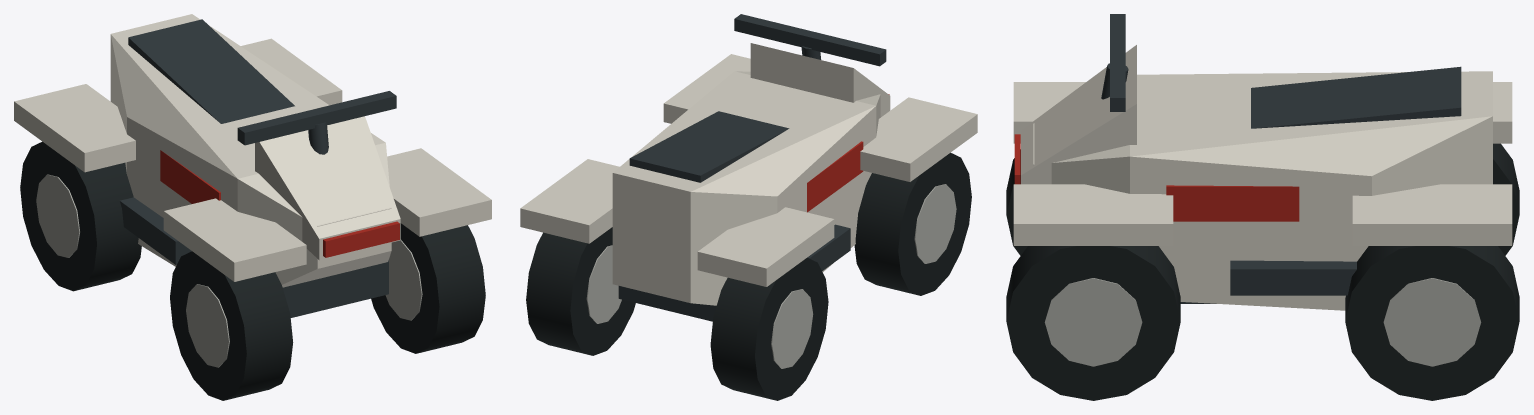
3 renders of one model, left to right at view 1: azimuth 30°, elevation 25°; view 2: azimuth 150°, elevation 25°; view 3: azimuth 270°, elevation 25°, orthographic. The views are drawn at different scales.
Visible parts, largest first — view 1: atv-fleet-armor, atv-fleet-machine, wheel--1-0.7-fleet-rubber, wheel--1--0.7-fleet-rubber, wheel-1-0.7-fleet-rubber, steering-fleet-machine, atv-fleet-red, wheel--1--0.7-fleet-edge, wheel--1-0.7-fleet-edge, wheel-1-0.7-fleet-edge; view 2: atv-fleet-armor, wheel--1--0.7-fleet-rubber, wheel--1-0.7-fleet-rubber, wheel-1--0.7-fleet-rubber, atv-fleet-machine, steering-fleet-machine, wheel--1-0.7-fleet-edge, wheel--1--0.7-fleet-edge, wheel-1--0.7-fleet-edge, atv-fleet-red; view 3: atv-fleet-armor, wheel-1-0.7-fleet-rubber, wheel-1--0.7-fleet-rubber, atv-fleet-machine, wheel-1--0.7-fleet-edge, wheel-1-0.7-fleet-edge, atv-fleet-red, steering-fleet-machine, wheel--1--0.7-fleet-rubber, wheel--1-0.7-fleet-rubber.
Part boxes in pixels (<box>): atv-fleet-armor: <box>14,14,491,287</box>; atv-fleet-machine: <box>120,19,388,317</box>; wheel--1-0.7-fleet-rubber: <box>170,251,293,400</box>; wheel--1--0.7-fleet-rubber: <box>20,141,141,291</box>; wheel-1-0.7-fleet-rubber: <box>371,223,485,353</box>; steering-fleet-machine: <box>237,91,396,154</box>; atv-fleet-red: <box>160,150,399,257</box>; wheel--1--0.7-fleet-edge: <box>36,174,79,257</box>; wheel--1-0.7-fleet-edge: <box>186,284,229,367</box>; wheel-1-0.7-fleet-edge: <box>385,240,422,320</box>; atv-fleet-armor: <box>520,43,977,305</box>; wheel--1--0.7-fleet-rubber: <box>710,257,828,400</box>; wheel--1-0.7-fleet-rubber: <box>854,152,971,295</box>; wheel-1--0.7-fleet-rubber: <box>526,227,635,355</box>; atv-fleet-machine: <box>618,111,850,321</box>; steering-fleet-machine: <box>734,14,886,66</box>; wheel--1-0.7-fleet-edge: <box>914,184,956,263</box>; wheel--1--0.7-fleet-edge: <box>771,289,813,368</box>; wheel-1--0.7-fleet-edge: <box>586,245,621,323</box>; atv-fleet-red: <box>807,94,889,212</box>; atv-fleet-armor: <box>1013,45,1512,310</box>; wheel-1-0.7-fleet-rubber: <box>1006,246,1180,400</box>; wheel-1--0.7-fleet-rubber: <box>1345,246,1519,400</box>; atv-fleet-machine: <box>1180,66,1461,303</box>; wheel-1--0.7-fleet-edge: <box>1383,278,1481,366</box>; wheel-1-0.7-fleet-edge: <box>1044,278,1142,366</box>; atv-fleet-red: <box>1014,134,1299,221</box>; steering-fleet-machine: <box>1101,14,1128,111</box>; wheel--1--0.7-fleet-rubber: <box>1493,143,1519,255</box>; wheel--1-0.7-fleet-rubber: <box>1006,149,1027,255</box>.
Bounding box in the file's own units: 7.59 × 6.95 × 11.58.
